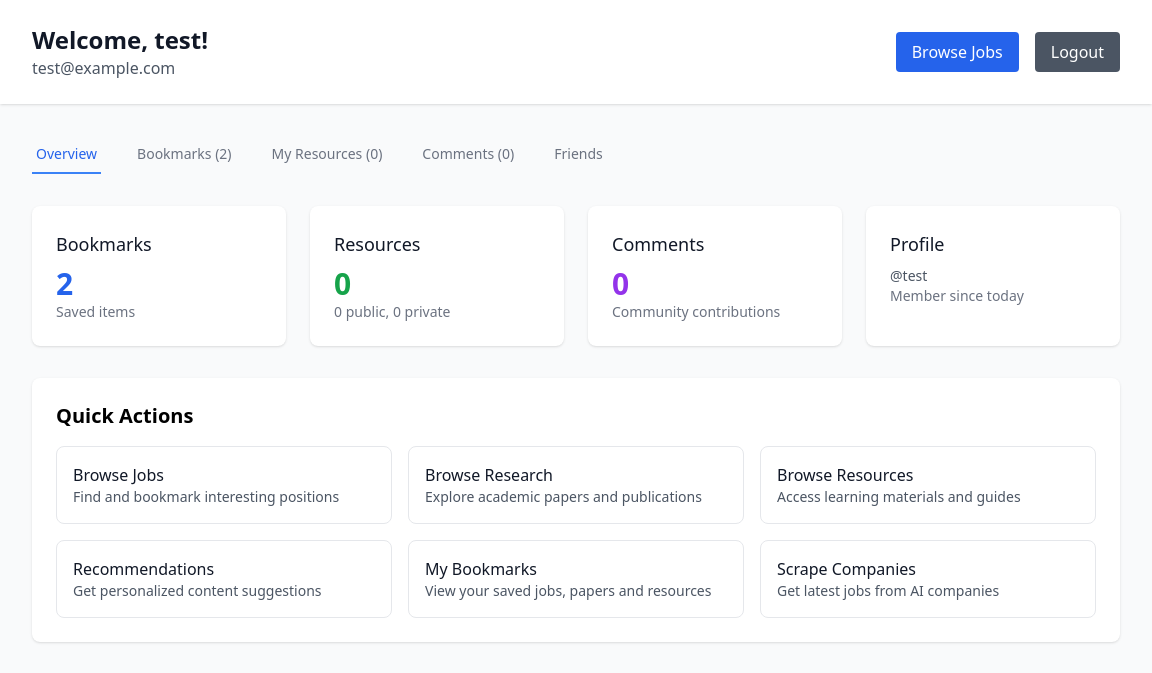
Test: Dashboard Page › filters bookmarks based on search input
The width and height of the screenshot is (1152, 673).
Switch to bookmarks tab
Click the button "Bookmarks (2)" at (184, 155), box [133,136,236,174]
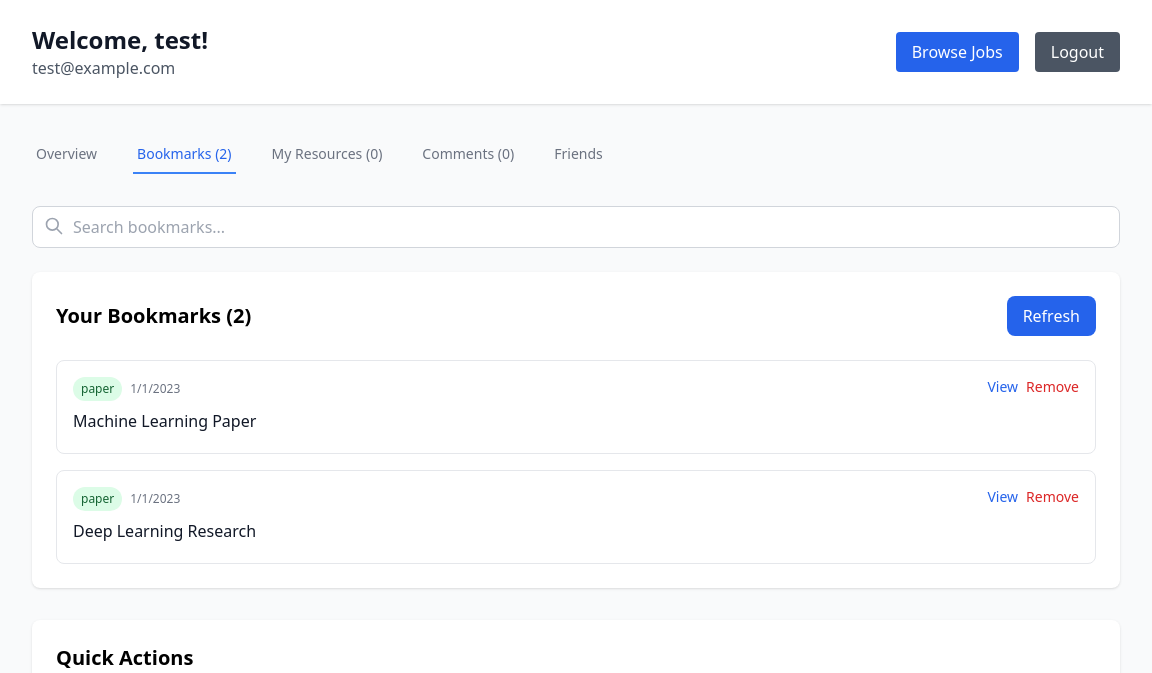
Expected: the heading "Machine Learning Paper" is shown, [73,410,256,432]
Expected: the heading "Deep Learning Research" is shown, [73,520,256,542]
Search for "machine"
Type "machine" into the field with placeholder "Search bookmarks..." at (576, 227), box [32,206,1120,248]
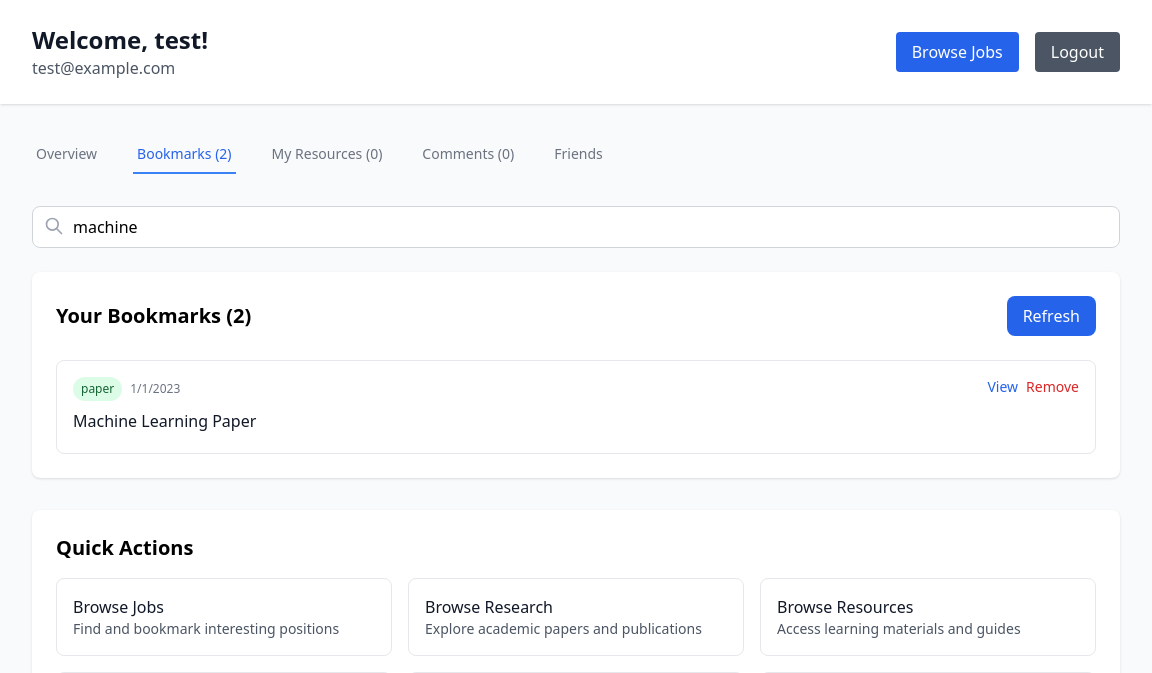
Expected: the heading "Machine Learning Paper" is shown, [73,410,256,432]
Expected: the heading "Deep Learning Research" is gone
